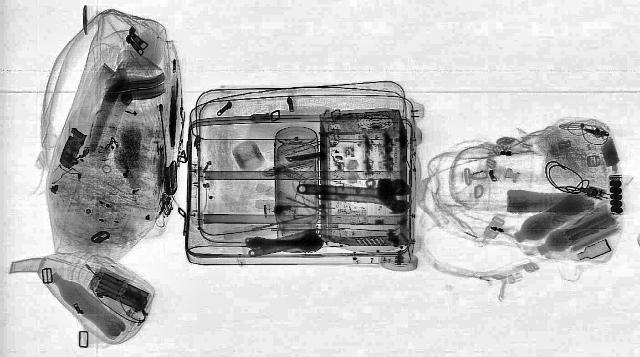Wrench: (293, 174, 411, 208)
